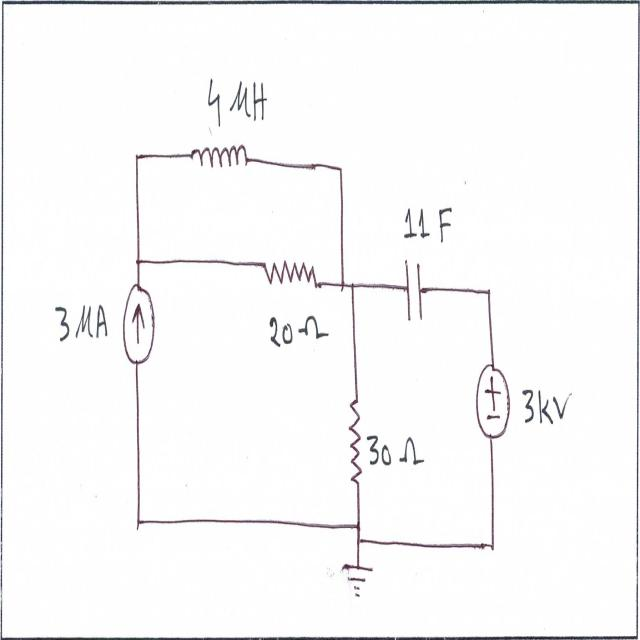capacitor: (400, 252, 426, 326)
current_source: (120, 278, 156, 378)
ground: (335, 559, 376, 606)
inductor: (185, 143, 250, 177)
resistor: (260, 249, 322, 305), (344, 386, 364, 497)
voltage_source: (474, 355, 514, 446)
